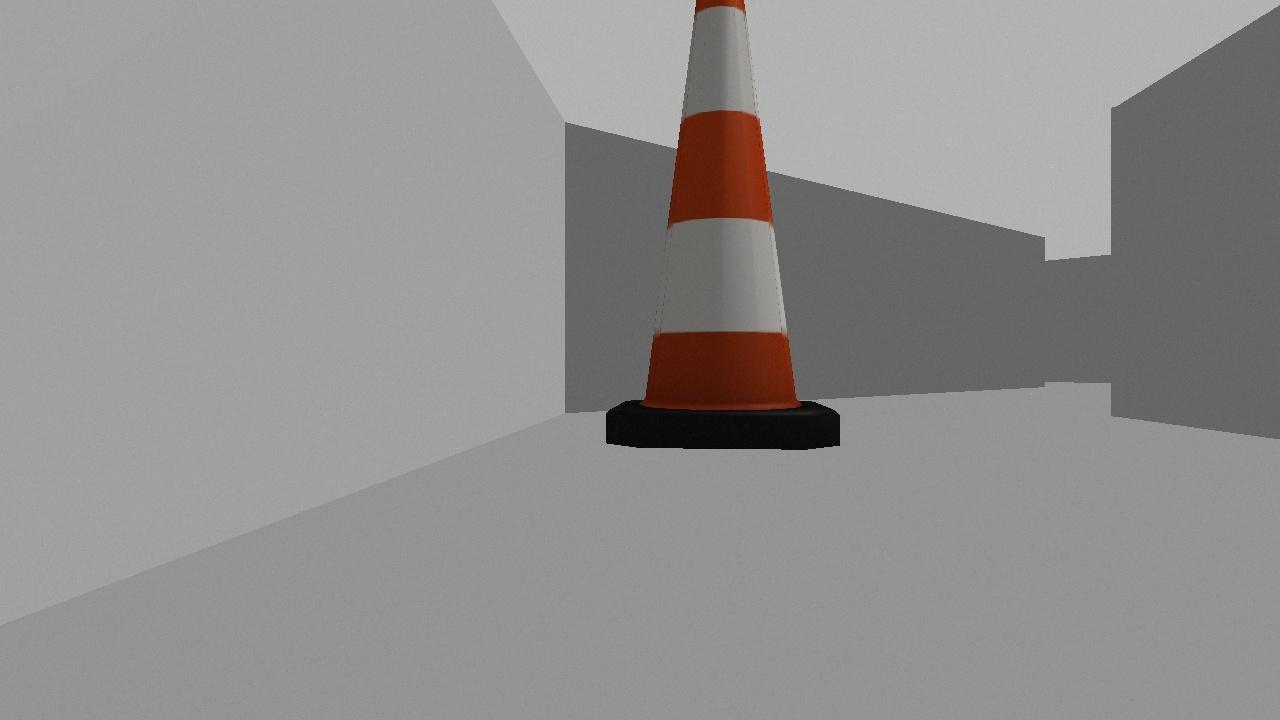cone_barrel: (602, 0, 849, 451)
